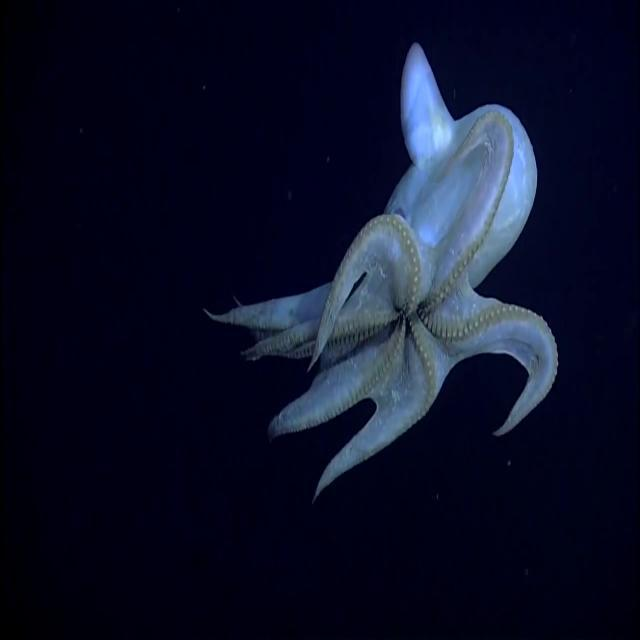octopus: (192, 37, 575, 503)
